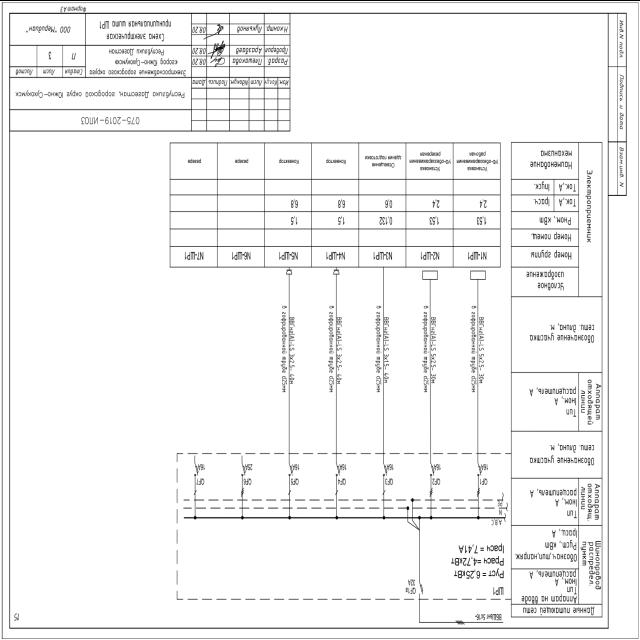-: (492, 583, 506, 597), (292, 462, 302, 472), (433, 462, 443, 471), (385, 462, 395, 471), (480, 462, 490, 471), (197, 461, 207, 470), (406, 577, 416, 586), (338, 461, 348, 470), (244, 462, 254, 471)
QF: (428, 462, 436, 497), (334, 462, 342, 496), (286, 461, 294, 495), (192, 460, 199, 496), (240, 461, 247, 496), (476, 462, 482, 497), (382, 462, 388, 495), (417, 580, 425, 596)
